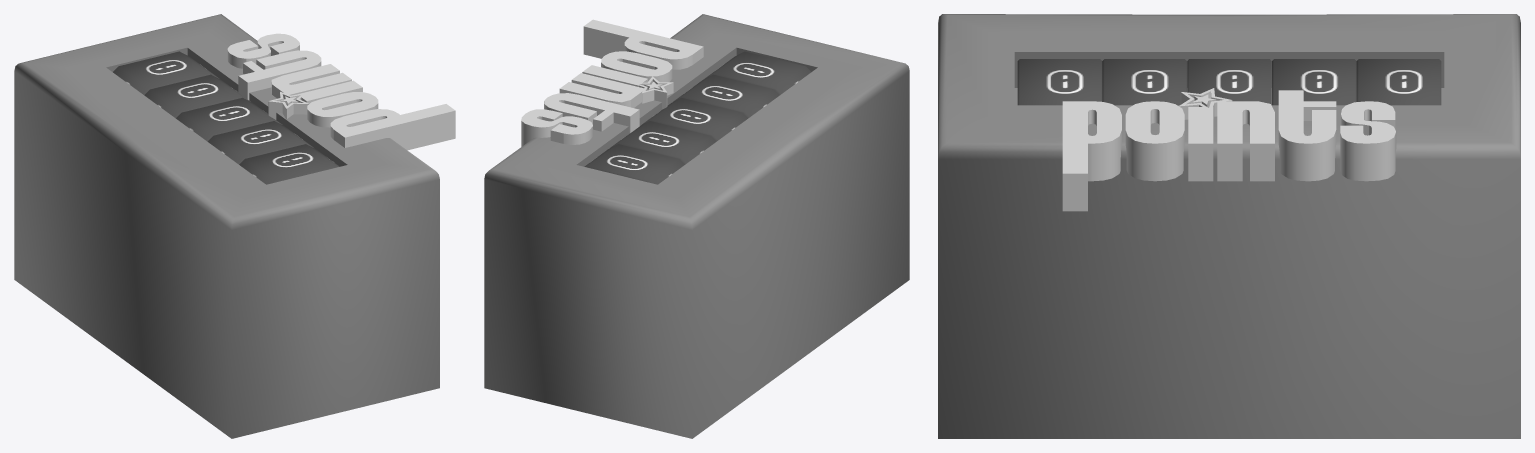
File: scorekeeperbox.FBX
3 views of the same model, side by side, from view 1: azimuth 30°, elevation 25°; view 2: azimuth 150°, elevation 25°; view 3: azimuth 270°, elevation 25° (orthographic). The views are drawn at different scales.
Parts seen in each view (by area): view 1: Box02, Text01, Object05, Object04, Object02, Object03, Object01; view 2: Box02, Text01, Object04, Object01, Object05, Object03, Object02; view 3: Box02, Text01, Object02, Object01, Object05, Object03, Object04.
Part boxes in pixels (left/top/right/bottom): Box02: left=14, top=14, right=439, bottom=438; Text01: left=227, top=33, right=455, bottom=150; Object05: left=207, top=121, right=313, bottom=164; Object04: left=176, top=97, right=282, bottom=141; Object02: left=113, top=51, right=219, bottom=94; Object03: left=144, top=74, right=250, bottom=118; Object01: left=239, top=144, right=339, bottom=184; Box02: left=484, top=14, right=909, bottom=438; Text01: left=521, top=19, right=703, bottom=146; Object04: left=642, top=97, right=747, bottom=141; Object01: left=704, top=51, right=811, bottom=94; Object05: left=673, top=74, right=779, bottom=118; Object03: left=610, top=121, right=716, bottom=164; Object02: left=584, top=144, right=684, bottom=184; Box02: left=938, top=14, right=1520, bottom=438; Text01: left=1062, top=88, right=1396, bottom=211; Object02: left=1356, top=59, right=1441, bottom=105; Object01: left=1017, top=59, right=1102, bottom=105; Object05: left=1102, top=59, right=1186, bottom=105; Object03: left=1272, top=59, right=1356, bottom=105; Object04: left=1187, top=59, right=1271, bottom=104.
Size of the model in its own units: 202 by 163 by 281.
